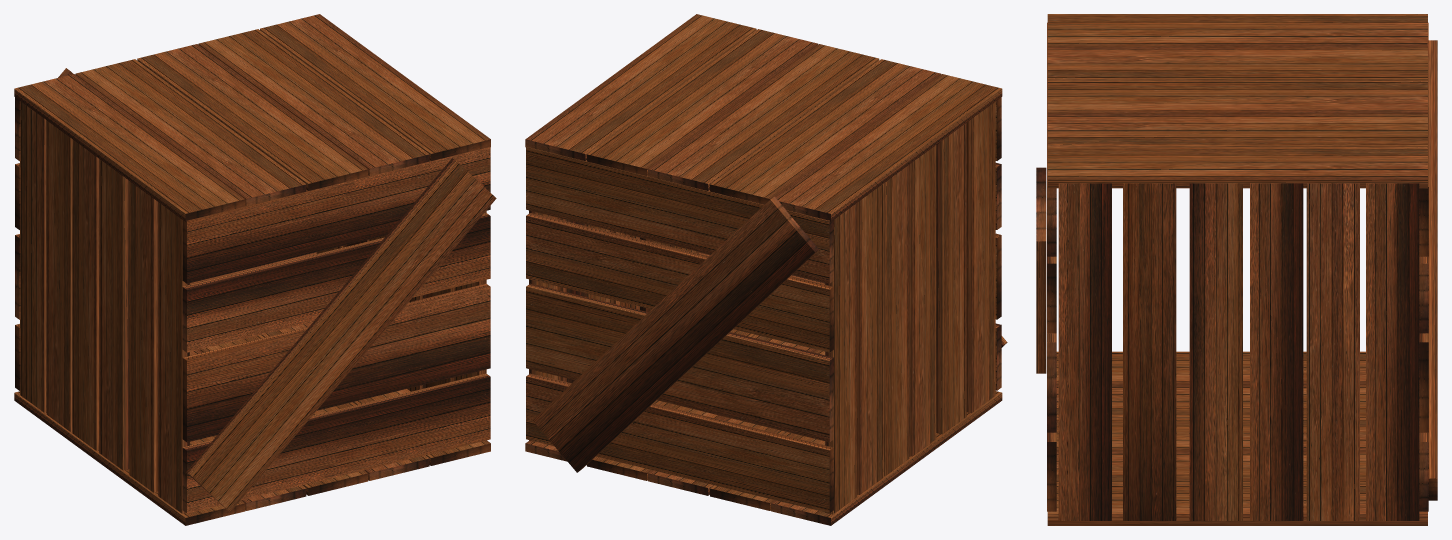
Rendered from crate.fbx.
3 views of the same model, side by side, from view 1: azimuth 30°, elevation 25°; view 2: azimuth 150°, elevation 25°; view 3: azimuth 270°, elevation 25° (orthographic). The views are drawn at different scales.
Parts seen in each view (by area): view 1: pasted__pasted__pasted__pCube1 (×13), pasted__pCube1 (×3), pasted__pasted__pCube1 (×4), pCube1, pasted__pasted__pasted__pasted__pCube1; view 2: pasted__pasted__pasted__pCube1 (×13), pasted__pasted__pCube1 (×6), pasted__pCube1 (×2), pasted__pasted__pasted__pasted__pCube1, pCube1; view 3: pasted__pasted__pCube1 (×9), pasted__pasted__pasted__pCube1 (×11), pasted__pCube1 (×5), pCube1.
Part boxes in pixels (x1=…): pasted__pasted__pasted__pCube1 (×13): x1=14, y1=14, x2=496, y2=525; pasted__pCube1 (×3): x1=182, y1=147, x2=490, y2=513; pasted__pasted__pCube1 (×4): x1=15, y1=44, x2=368, y2=495; pCube1: x1=182, y1=283, x2=490, y2=442; pasted__pasted__pasted__pasted__pCube1: x1=158, y1=202, x2=189, y2=513; pasted__pasted__pasted__pCube1 (×13): x1=525, y1=14, x2=1002, y2=525; pasted__pasted__pCube1 (×6): x1=526, y1=44, x2=909, y2=513; pasted__pCube1 (×2): x1=526, y1=252, x2=1001, y2=442; pasted__pasted__pasted__pasted__pCube1: x1=966, y1=101, x2=995, y2=413; pCube1: x1=995, y1=233, x2=1001, y2=319; pasted__pasted__pCube1 (×9): x1=1047, y1=22, x2=1428, y2=520; pasted__pasted__pasted__pCube1 (×11): x1=1036, y1=14, x2=1437, y2=525; pasted__pCube1 (×5): x1=1047, y1=22, x2=1428, y2=520; pCube1: x1=1047, y1=333, x2=1056, y2=432.
Size of the model in its own units: 8.67 by 8.67 by 8.86.
1 material, 1 textured.
